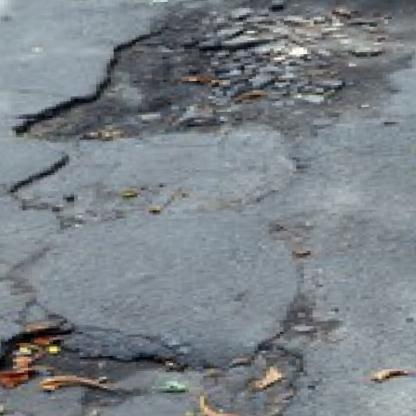pothole: (50, 0, 416, 140), (0, 310, 310, 416)
